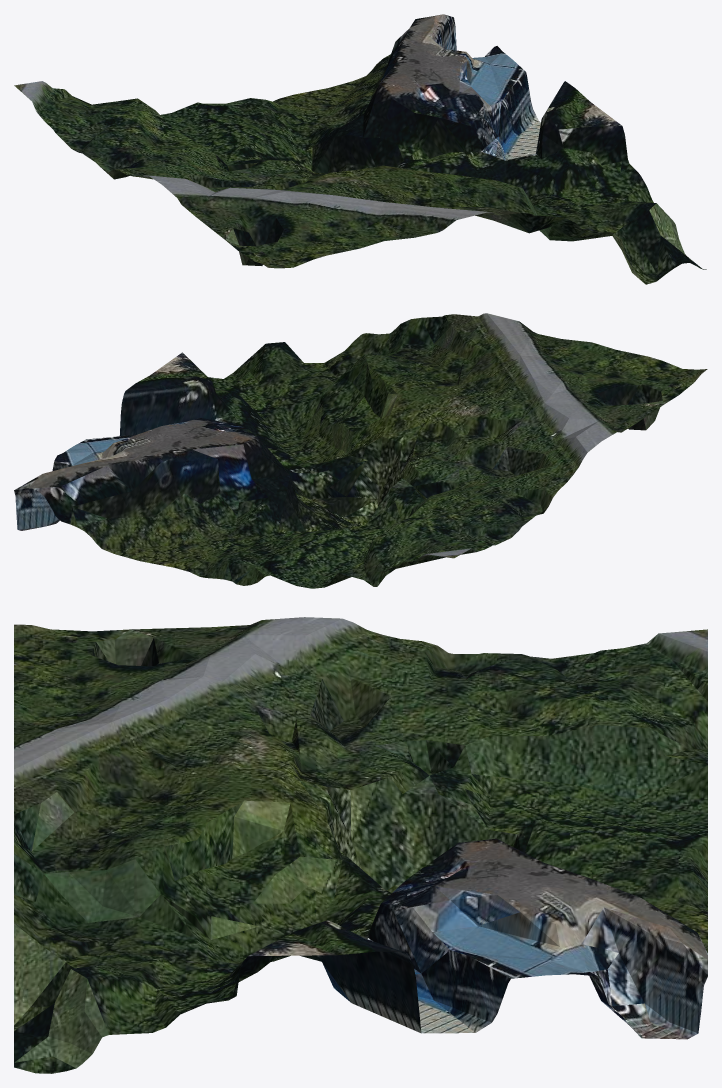
The model's file is map_15_8179_13782.dae.
3 views of the same model, one above another, from view 1: azimuth 30°, elevation 25°; view 2: azimuth 150°, elevation 25°; view 3: azimuth 270°, elevation 25° (orthographic). The views are drawn at different scales.
Parts seen in each view (by area): view 1: Ter0; view 2: Ter0; view 3: Ter0.
Boxes of the visible parts, box(x1,y1,x2,y2) form: Ter0: box(14, 14, 706, 284); Ter0: box(14, 313, 707, 588); Ter0: box(14, 617, 707, 1073).
Size of the model in its own units: 63.87 by 63.88 by 16.6.
3 materials, 3 textured.
